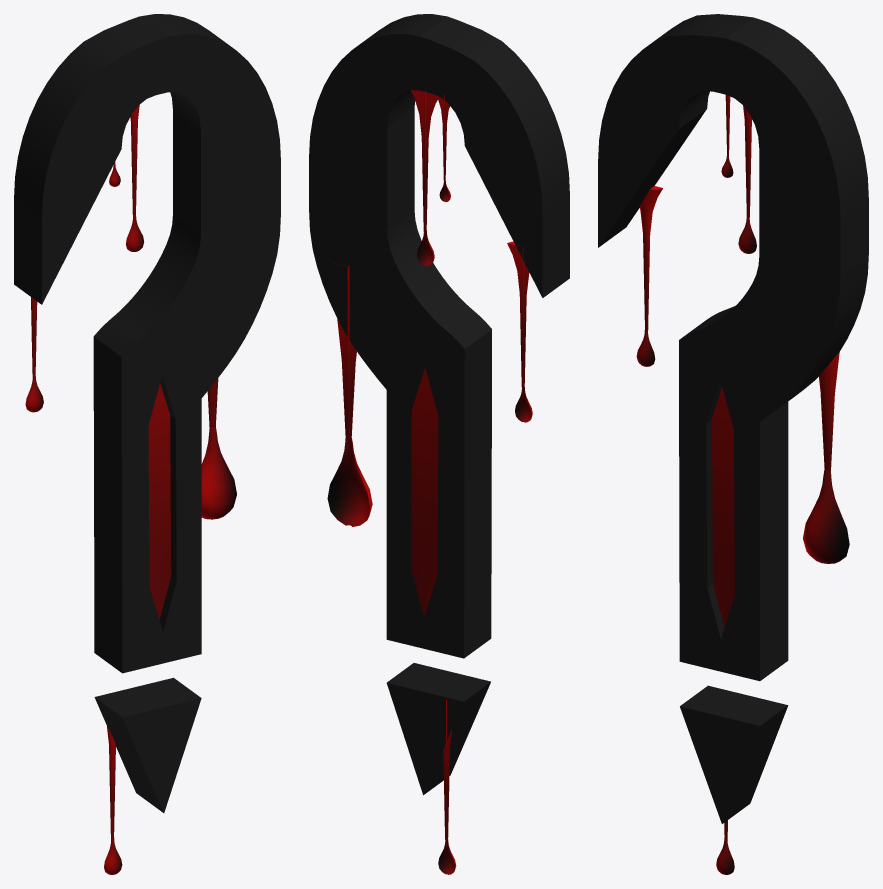
File: Question.FBX
3 renders of one model, left to right at view 1: azimuth 30°, elevation 25°; view 2: azimuth 150°, elevation 25°; view 3: azimuth 330°, elevation 25°, orthographic. The views are drawn at different scales.
Parts seen in each view (by area): view 1: Question, Question_Element, Blood_239, Blood_248, Blood_246, Blood_250; view 2: Question, Question_Element, Blood_239, Blood_248, Blood_250, Blood_246, Blood_254; view 3: Question, Question_Element, Blood_239, Blood_250, Blood_248.
Boxes of the visible parts, box(x1,y1,x2,y2) form: Question: box(14, 14, 280, 812); Question_Element: box(148, 383, 171, 619); Blood_239: box(201, 378, 236, 519); Blood_248: box(126, 105, 143, 251); Blood_246: box(104, 726, 122, 874); Blood_250: box(25, 297, 43, 412); Question: box(309, 14, 569, 795); Question_Element: box(410, 367, 438, 617); Blood_239: box(327, 266, 372, 526); Blood_248: box(411, 90, 437, 265); Blood_250: box(507, 241, 532, 422); Blood_246: box(438, 699, 456, 874); Blood_254: box(436, 95, 450, 201); Question: box(598, 14, 868, 823); Question_Element: box(712, 387, 734, 626); Blood_239: box(803, 352, 849, 563); Blood_250: box(636, 186, 662, 366); Blood_248: box(738, 106, 756, 253).
Size of the model in its own units: 24.7 by 84.06 by 5.04.
Materials: 2 (1 with a texture image).
